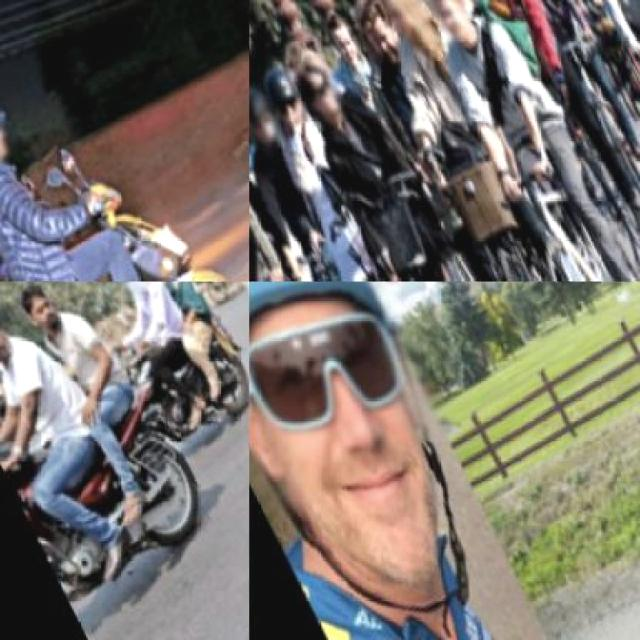With Helmet: (249, 282, 460, 536), (253, 54, 315, 140), (249, 74, 291, 163)
Without Helmet: (289, 52, 353, 139), (371, 0, 443, 68), (414, 0, 480, 60), (6, 282, 66, 340), (0, 85, 28, 192), (0, 290, 18, 375), (103, 282, 157, 309)
